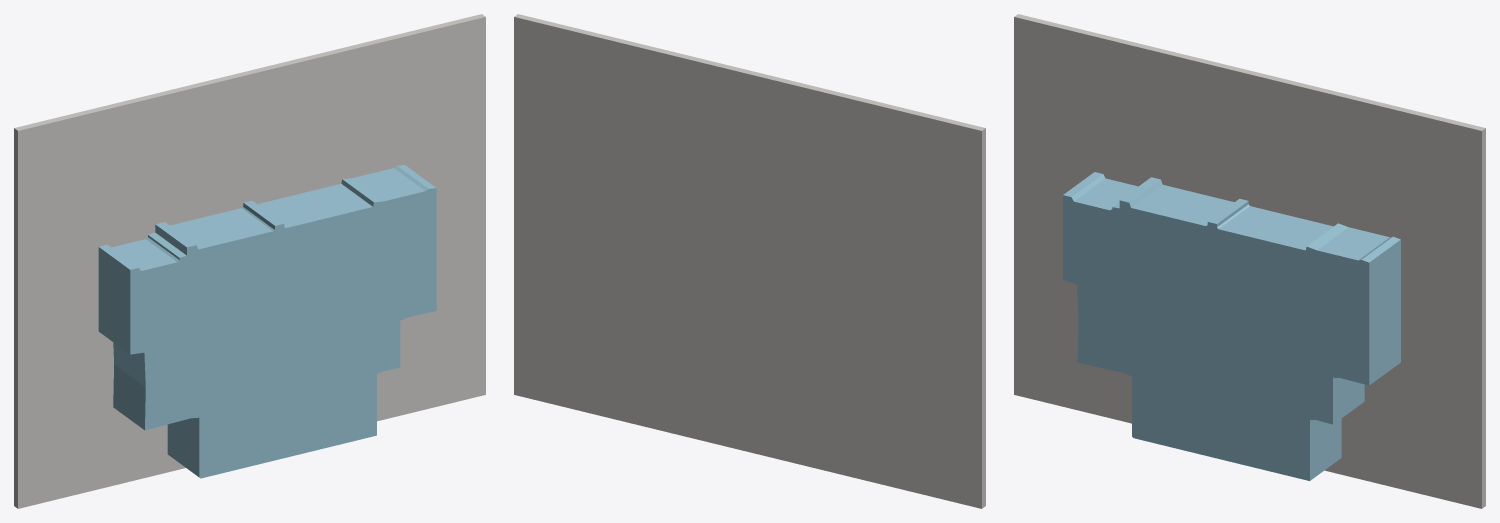
The picture shows the model from 3 angles, left to right: view 1: azimuth 30°, elevation 25°; view 2: azimuth 150°, elevation 25°; view 3: azimuth 330°, elevation 25°; orthographic projection.
Parts seen in each view (by area): view 1: world; view 2: world; view 3: world.
Part boxes in pixels (x1,y1,x2,y2): world: (14, 14, 485, 508); world: (514, 14, 985, 508); world: (1014, 14, 1485, 508).
Bounding box in the file's own units: 10.23 × 7.9 × 1.35.
